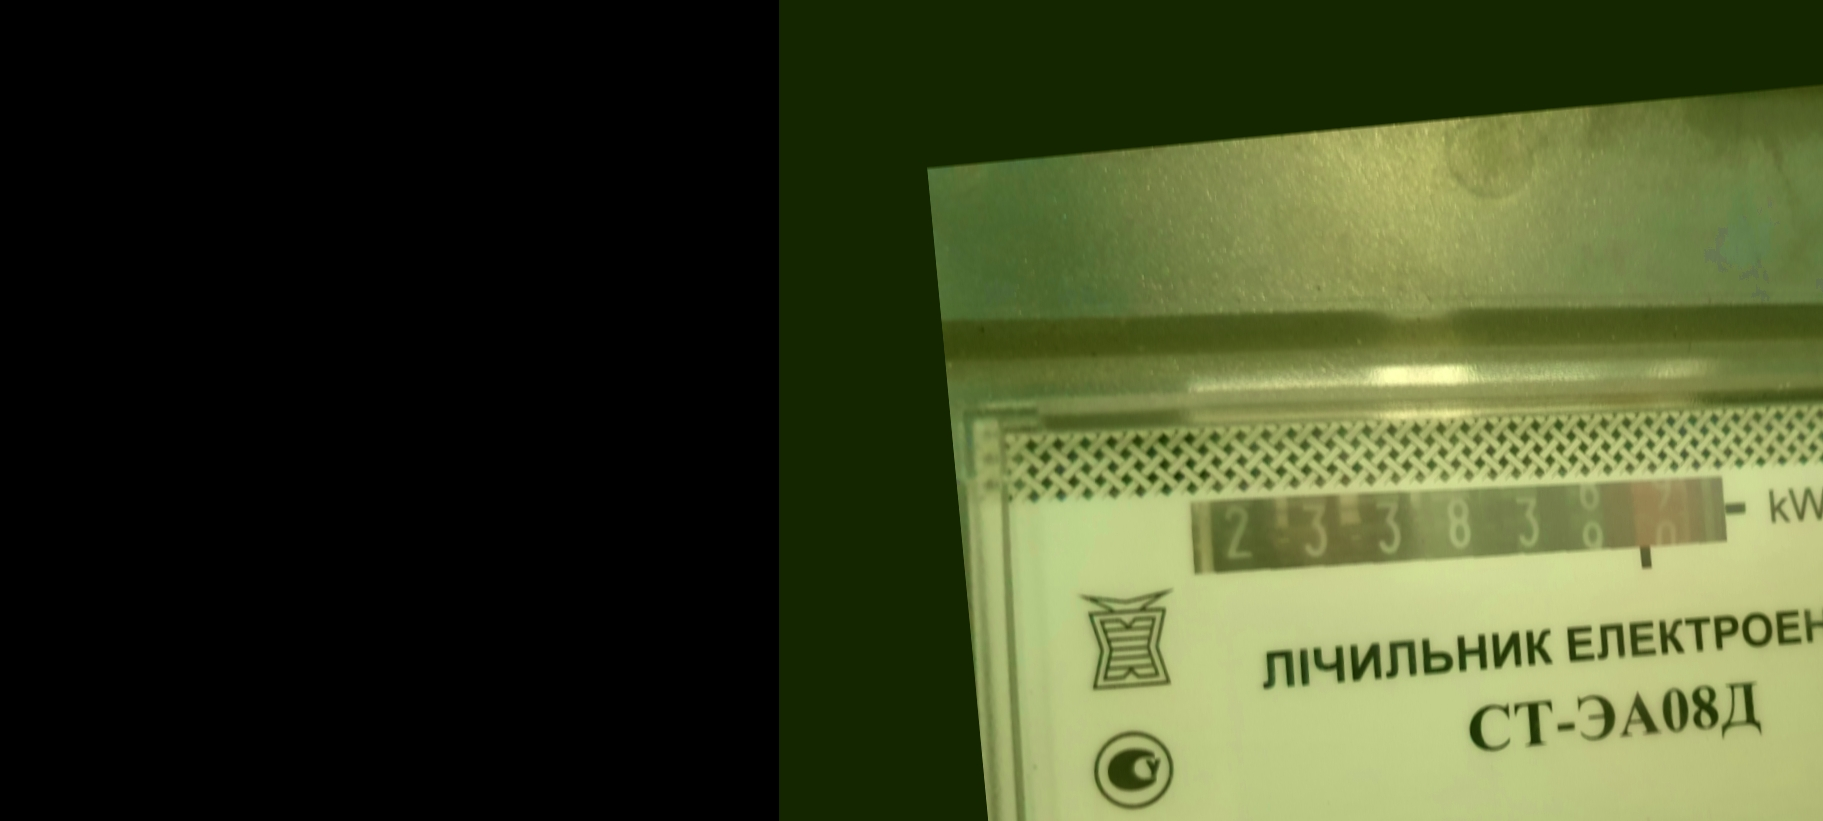0: (1654, 515, 1683, 552)
2: (1218, 499, 1263, 563)
3: (1370, 492, 1411, 559), (1301, 498, 1334, 559), (1514, 490, 1547, 548)
8: (1442, 490, 1481, 552), (1578, 477, 1607, 511)
9: (1647, 472, 1682, 513), (1580, 515, 1613, 554)
screen: (1160, 427, 1764, 637)
